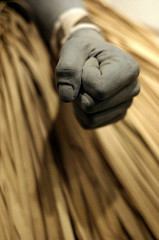fist: (53, 44, 138, 132)
